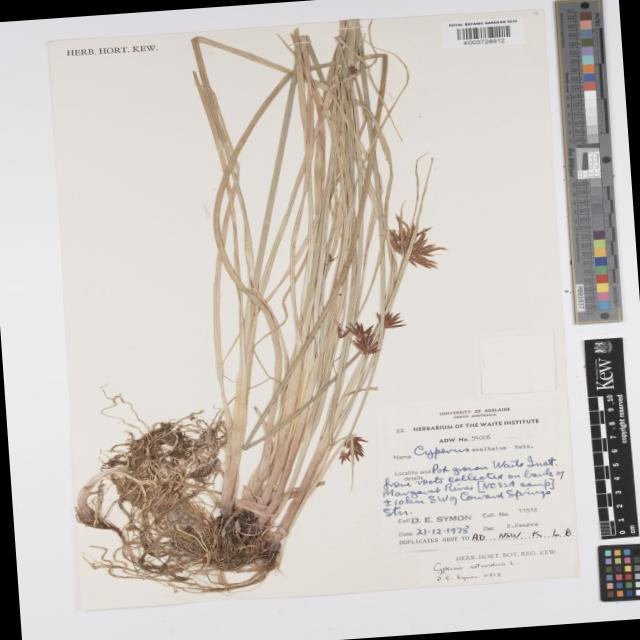cyperus: (330, 303, 416, 365), (378, 212, 447, 280), (330, 428, 375, 466)
